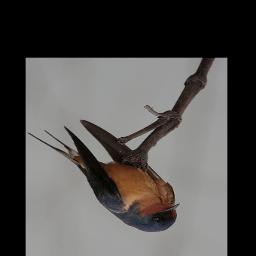Swallow: (29, 120, 181, 234)
